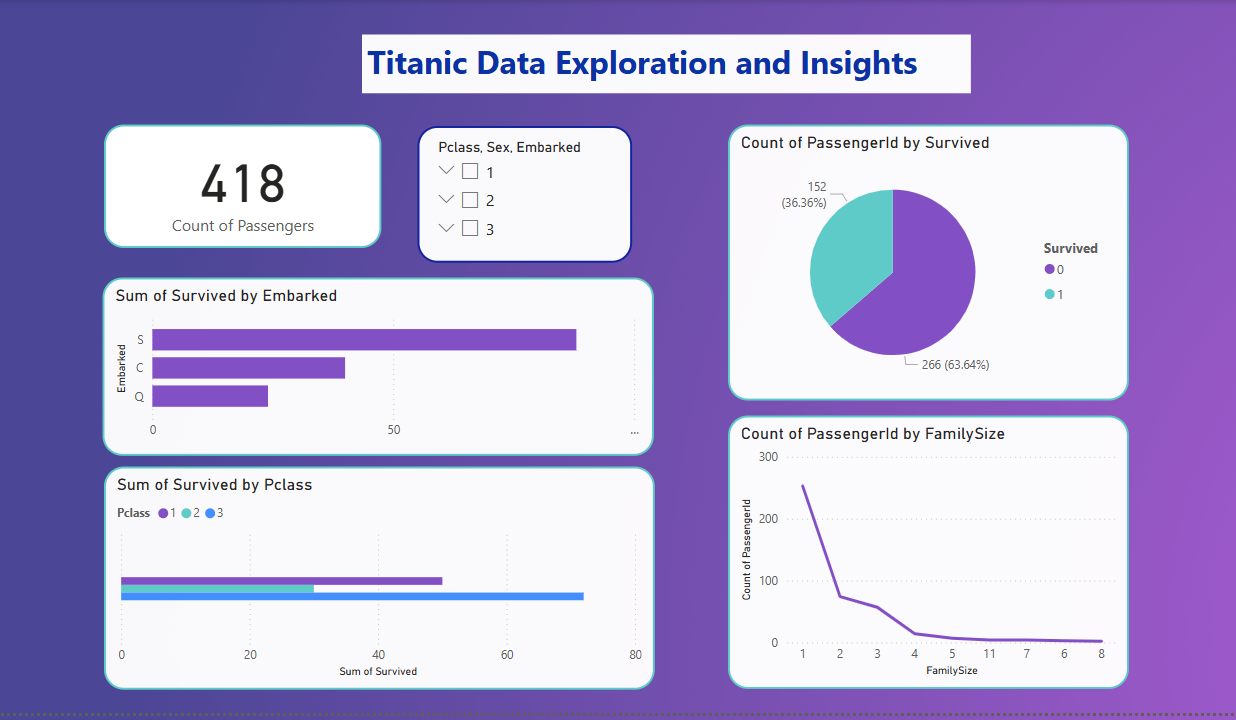

What the dashboard file says about the page in this screenshot:
{"tool":"powerbi","page":{"name":"Page 1","canvas":[1280,720],"ordinal":0},"visuals":[{"type":"card","fields":{"Values":["CountNonNull(test.PassengerId)"]},"box":[105.7,126.2,279.9,124.9],"z":0},{"type":"pieChart","fields":{"Category":["test.Survived"],"Y":["CountNonNull(test.PassengerId)"]},"box":[735.5,126.2,404.8,278.6],"z":1000},{"type":"clusteredBarChart","fields":{"Y":["Sum(test.Survived)"],"Series":["test.Pclass"]},"box":[105.7,470.7,555.7,225],"z":2000},{"type":"barChart","fields":{"Y":["Sum(test.Survived)"],"Category":["test.Embarked"]},"box":[103.9,280,556.4,179.8],"z":3000},{"type":"lineChart","fields":{"Category":["test.FamilySize"],"Y":["CountNonNull(test.PassengerId)"]},"box":[735.5,419.9,404.8,275.8],"z":4000},{"type":"slicer","fields":{"Values":["test.Pclass","test.Sex","test.Embarked"]},"box":[423.1,127.2,216.4,138.2],"z":5000},{"type":"textbox","box":[366.4,34.8,614.8,59.1],"z":6000}]}

Visuals, with their boxes in screenshot pixels (x1, y1, x2, y2):
card - CountNonNull(test.PassengerId): left=101, top=125, right=377, bottom=248
pieChart - test.Survived x CountNonNull(test.PassengerId): left=723, top=125, right=1123, bottom=400
clusteredBarChart - Sum(test.Survived) x test.Pclass: left=101, top=465, right=650, bottom=687
barChart - Sum(test.Survived) x test.Embarked: left=99, top=276, right=649, bottom=454
lineChart - test.FamilySize x CountNonNull(test.PassengerId): left=723, top=415, right=1123, bottom=687
slicer - test.Pclass x test.Sex: left=414, top=126, right=628, bottom=262
textbox: left=359, top=34, right=965, bottom=93
